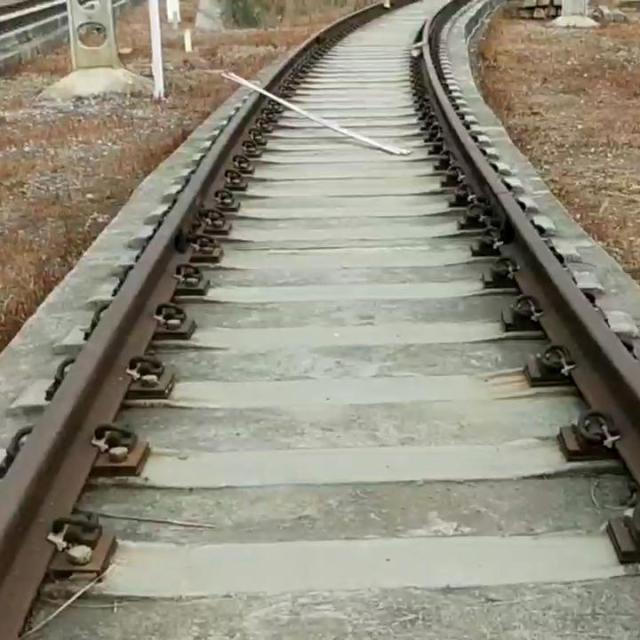danger: (214, 61, 423, 162)
rail: (0, 93, 265, 640), (421, 12, 640, 488), (258, 0, 388, 91)
